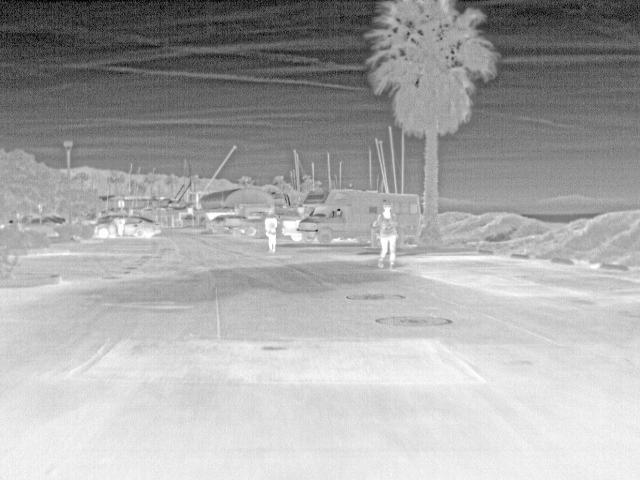car: (125, 214, 163, 240), (91, 214, 117, 241), (213, 216, 243, 235), (282, 214, 299, 244), (243, 218, 264, 240), (41, 220, 58, 230), (29, 218, 43, 230), (52, 218, 68, 228)
person: (374, 199, 398, 273), (261, 210, 277, 252), (113, 214, 127, 240)
